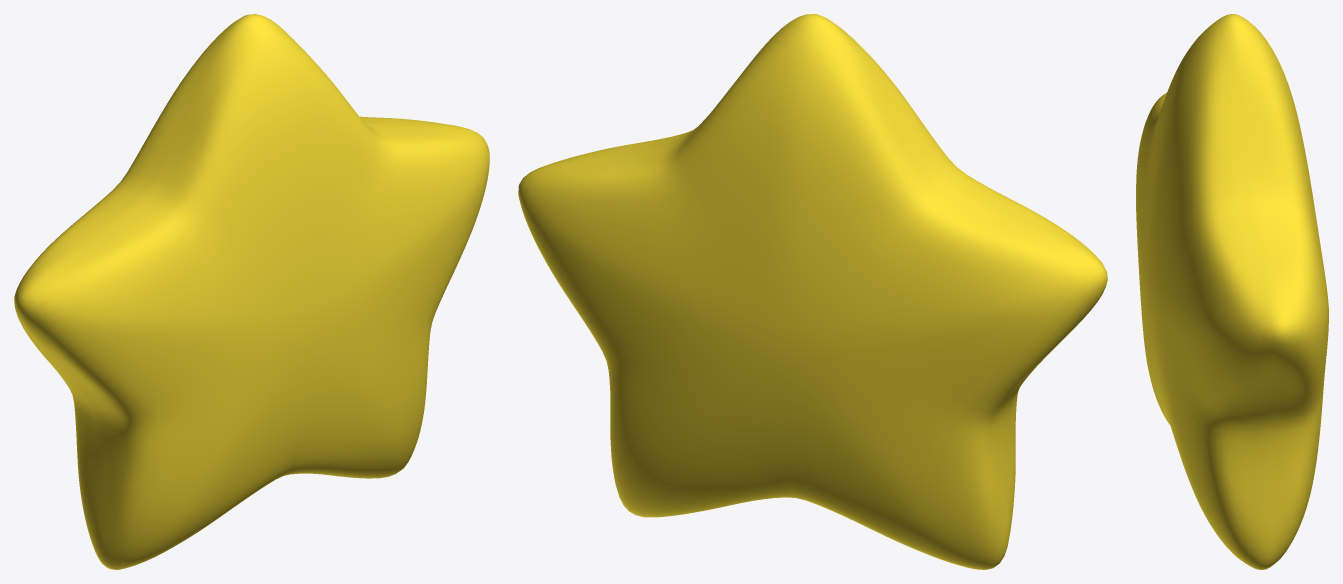
Rendered from Star.fbx.
3 views of the same model, side by side, from view 1: azimuth 30°, elevation 25°; view 2: azimuth 150°, elevation 25°; view 3: azimuth 270°, elevation 25° (orthographic). The views are drawn at different scales.
Parts seen in each view (by area): view 1: star; view 2: star; view 3: star.
Boxes of the visible parts, x1,y1,x2,y2 form: star: [14, 14, 489, 569]; star: [518, 14, 1107, 569]; star: [1136, 14, 1328, 569].
Size of the model in its own units: 22.49 by 21.13 by 7.65.
